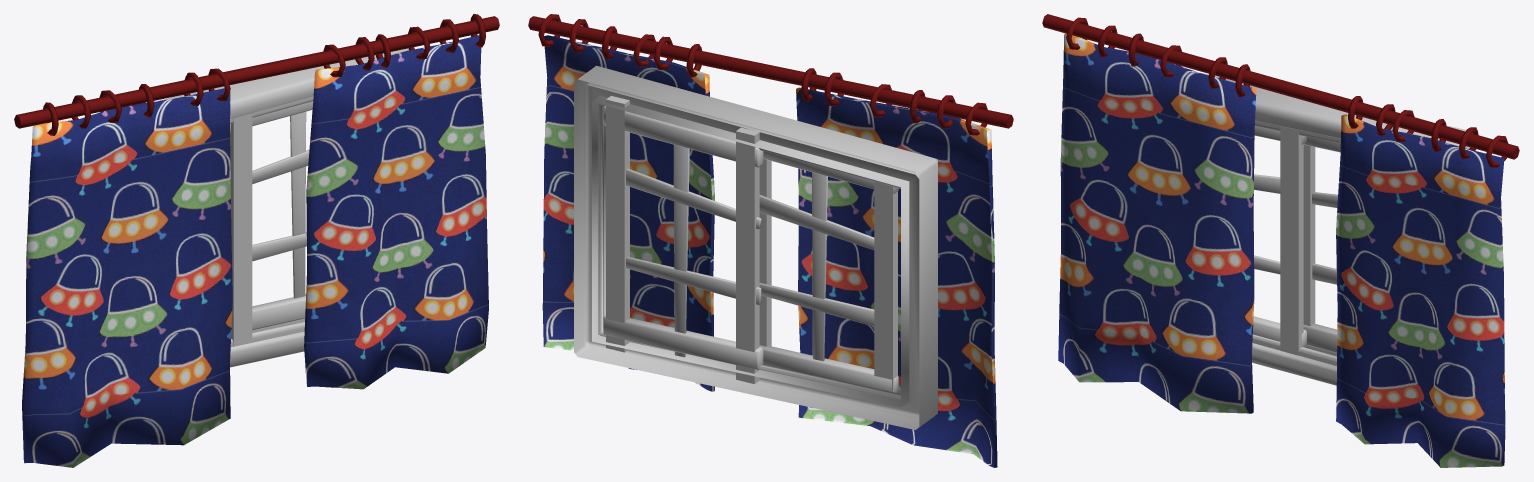
File: windowClosed.fbx
The picture shows the model from 3 angles, left to right: view 1: azimuth 30°, elevation 25°; view 2: azimuth 150°, elevation 25°; view 3: azimuth 330°, elevation 25°; orthographic projection.
Visible parts, largest first — view 1: windowClosed; view 2: windowClosed; view 3: windowClosed.
Part boxes in pixels (box(x1,y1,x2,y2)): windowClosed: box(14, 14, 499, 467); windowClosed: box(528, 14, 1013, 467); windowClosed: box(1042, 14, 1519, 467).
Bounding box in the file's own units: 9.77 × 7.05 × 1.54.
